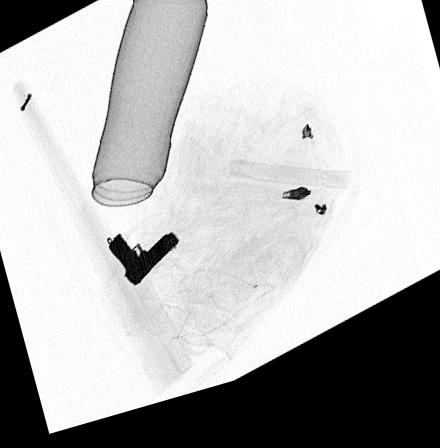Gun: (106, 241, 179, 294)
